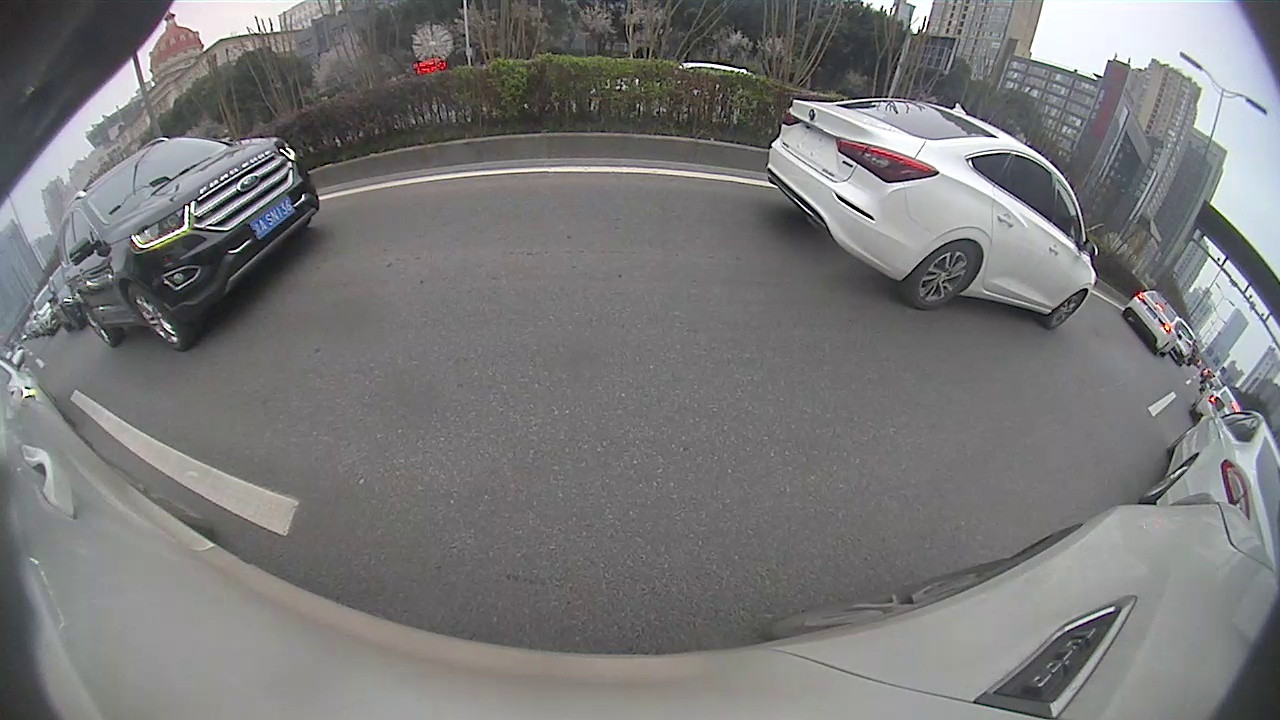car: (766, 98, 1098, 329), (57, 138, 321, 350), (1135, 394, 1278, 573), (1121, 287, 1183, 357)
front: (118, 283, 185, 348), (1045, 292, 1088, 325)
rear: (912, 238, 978, 308)
